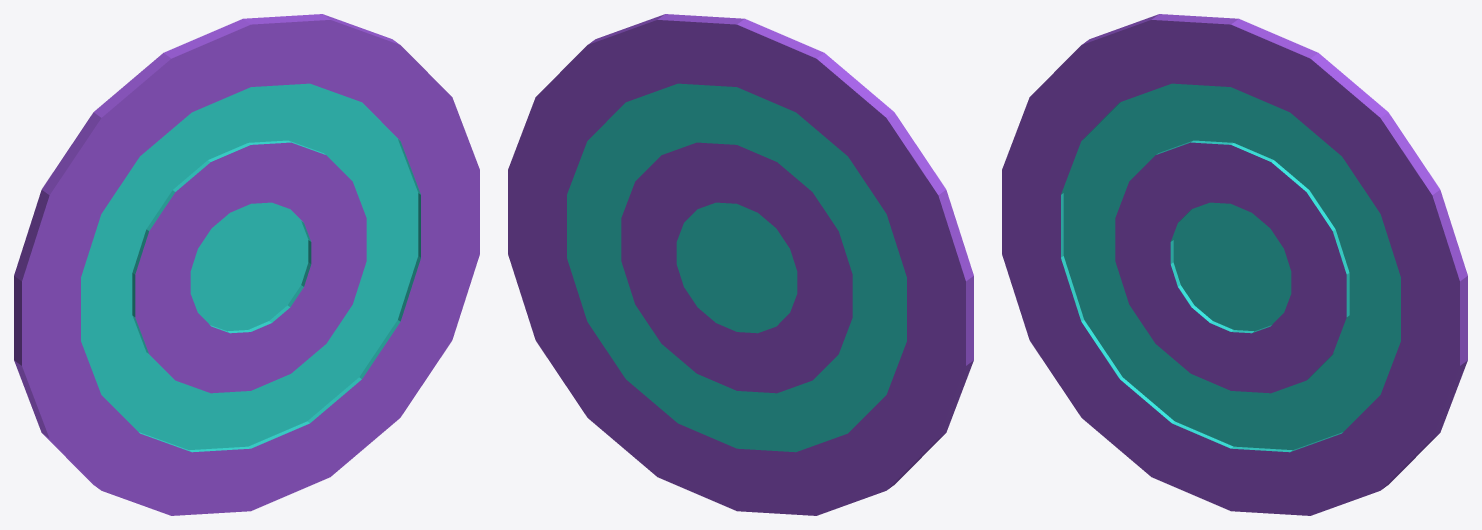
Rendered from Bullseye.fbx.
3 views of the same model, side by side, from view 1: azimuth 30°, elevation 25°; view 2: azimuth 150°, elevation 25°; view 3: azimuth 330°, elevation 25° (orthographic).
Parts seen in each view (by area): view 1: Circle; view 2: Circle; view 3: Circle.
Boxes of the visible parts, x1,y1,x2,y2 form: Circle: (14,14,479,515); Circle: (508,14,973,515); Circle: (1002,14,1467,515).
Size of the model in its own units: 197 by 200 by 5.95.
